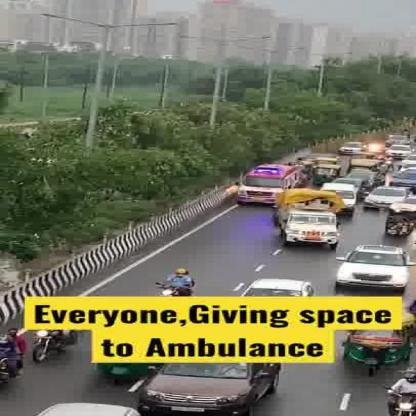priority: (235, 164, 301, 188)
